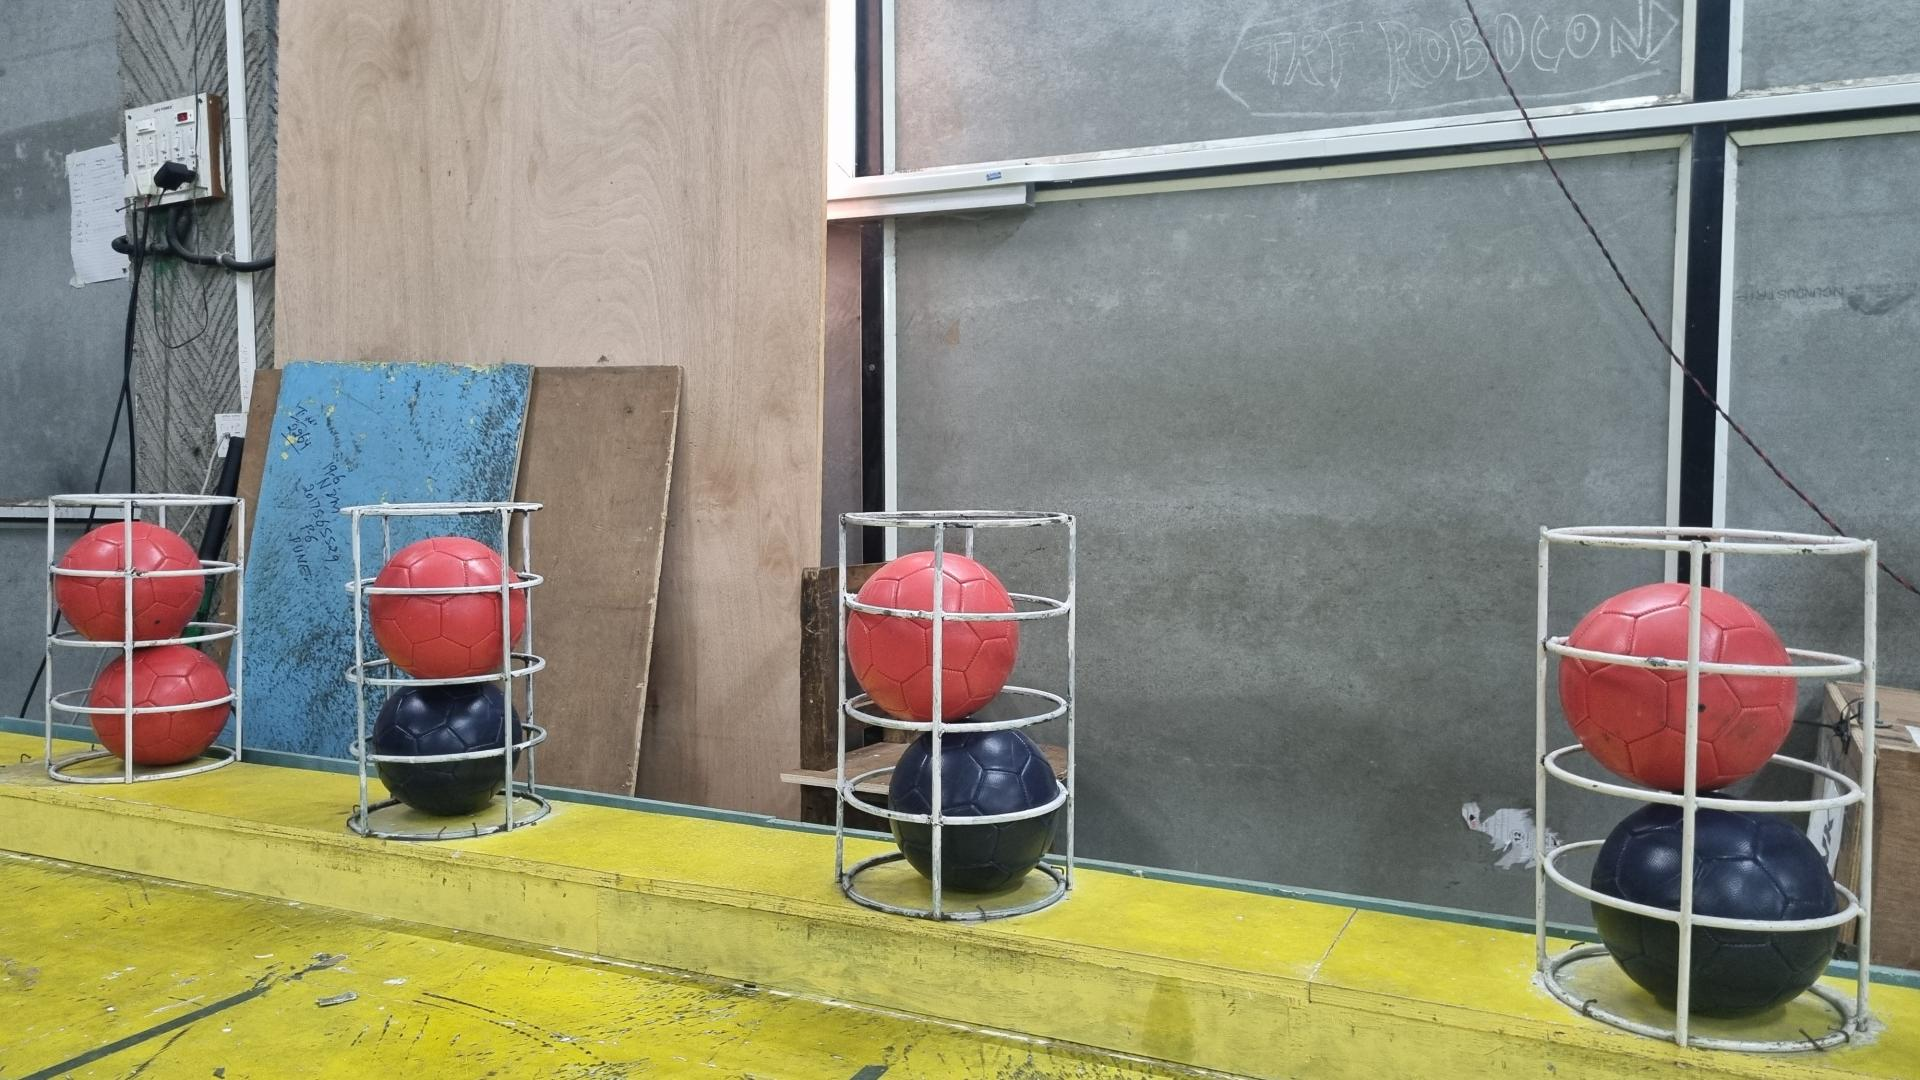dhoka: (1585, 802, 1837, 1019), (886, 731, 1063, 895), (369, 682, 524, 816)
laale: (1560, 580, 1800, 790), (847, 550, 1019, 723), (368, 537, 529, 679), (53, 521, 206, 641), (90, 645, 232, 765)
